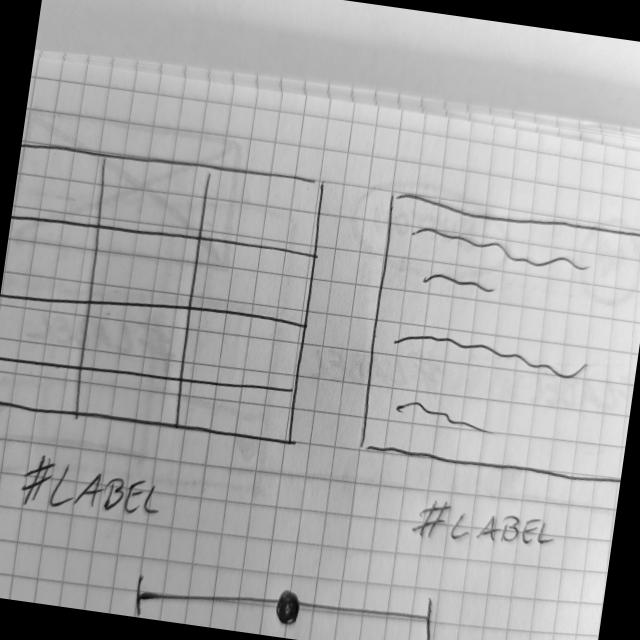table: (0, 135, 331, 450), (354, 186, 640, 494)
